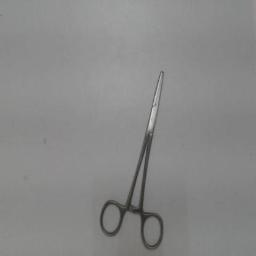Mayo Needle Holder: (96, 62, 168, 252)
